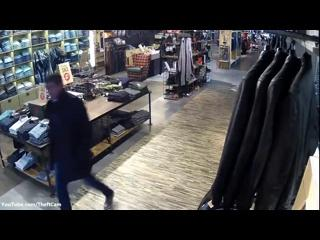Normal: (42, 73, 114, 209)
